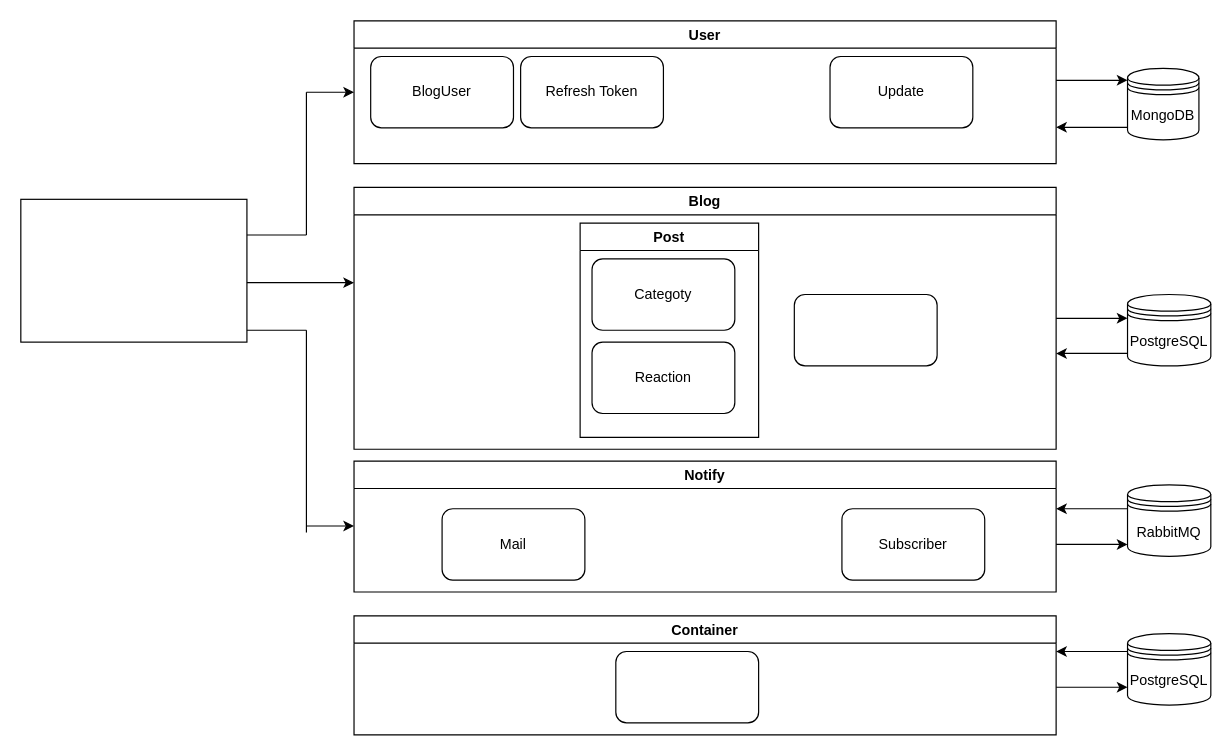
This 1232x756 diagram has some shape labels left out. Here are the shapes that lost their labels. From the top down, the centre of each, then its label:
[133,270]: Api Gateway
[865,329]: Repost
[687,686]: Authentication
